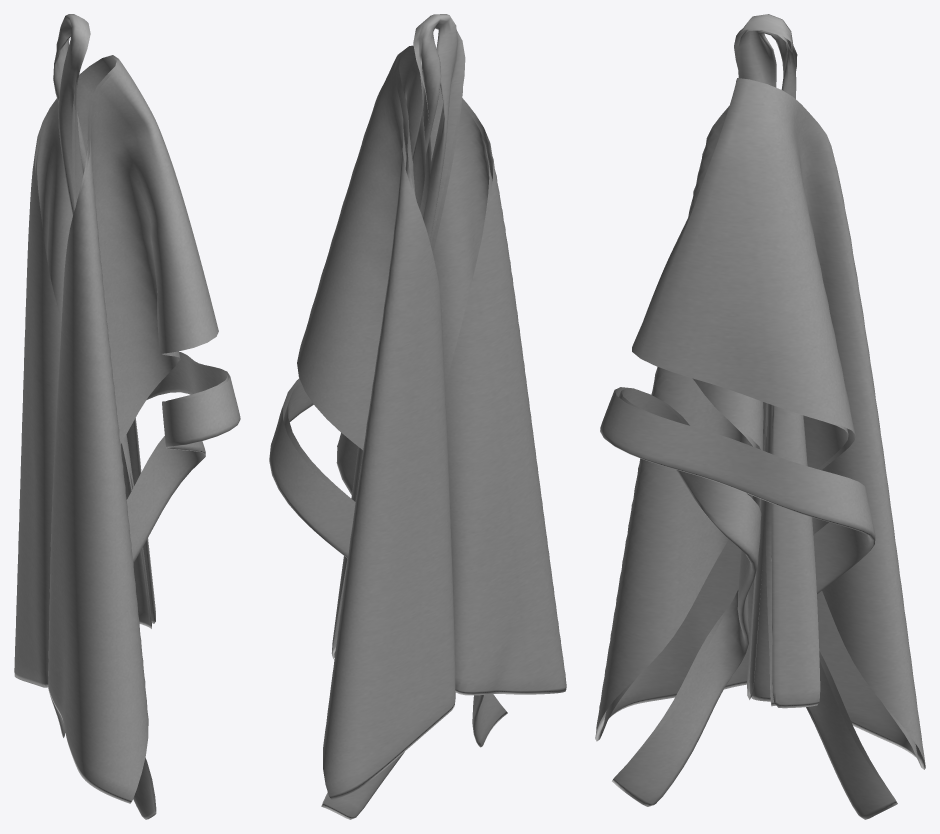
The model's file is Handuk 1.fbx.
3 renders of one model, left to right at view 1: azimuth 30°, elevation 25°; view 2: azimuth 150°, elevation 25°; view 3: azimuth 270°, elevation 25°, orthographic. The views are drawn at different scales.
Visible parts, largest first — view 1: Object_4; view 2: Object_4; view 3: Object_4.
Boxes of the visible parts, x1,y1,x2,y2 form: Object_4: (14, 14, 240, 819); Object_4: (269, 14, 566, 819); Object_4: (595, 14, 925, 819).
Bounding box in the file's own units: 45.9 × 177 × 67.61.
Materials: 1 (1 with a texture image).
